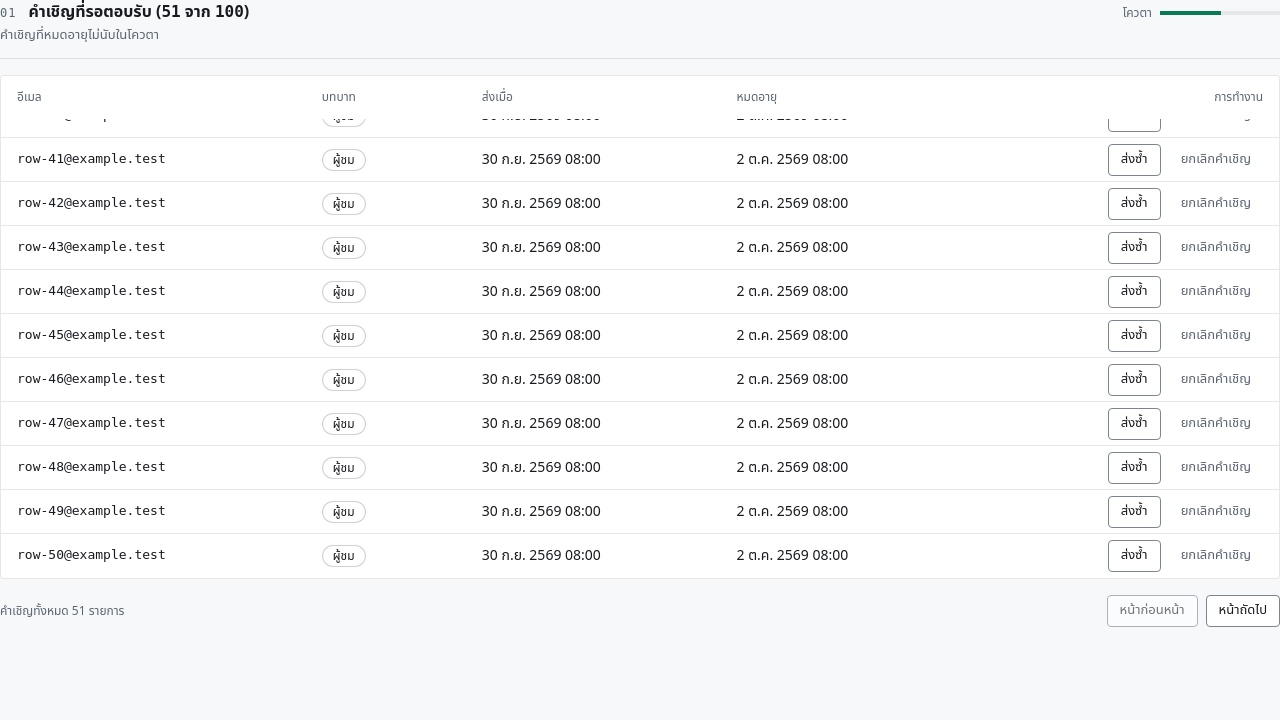
Test: invitation cancel › focuses the row pulled up from the next page when the last row of page one is canceled
(page scrolled)
Click the button "ยกเลิกคำเชิญ" in the row of "row-50@example.test": (1216, 556) [1169,540,1263,572]
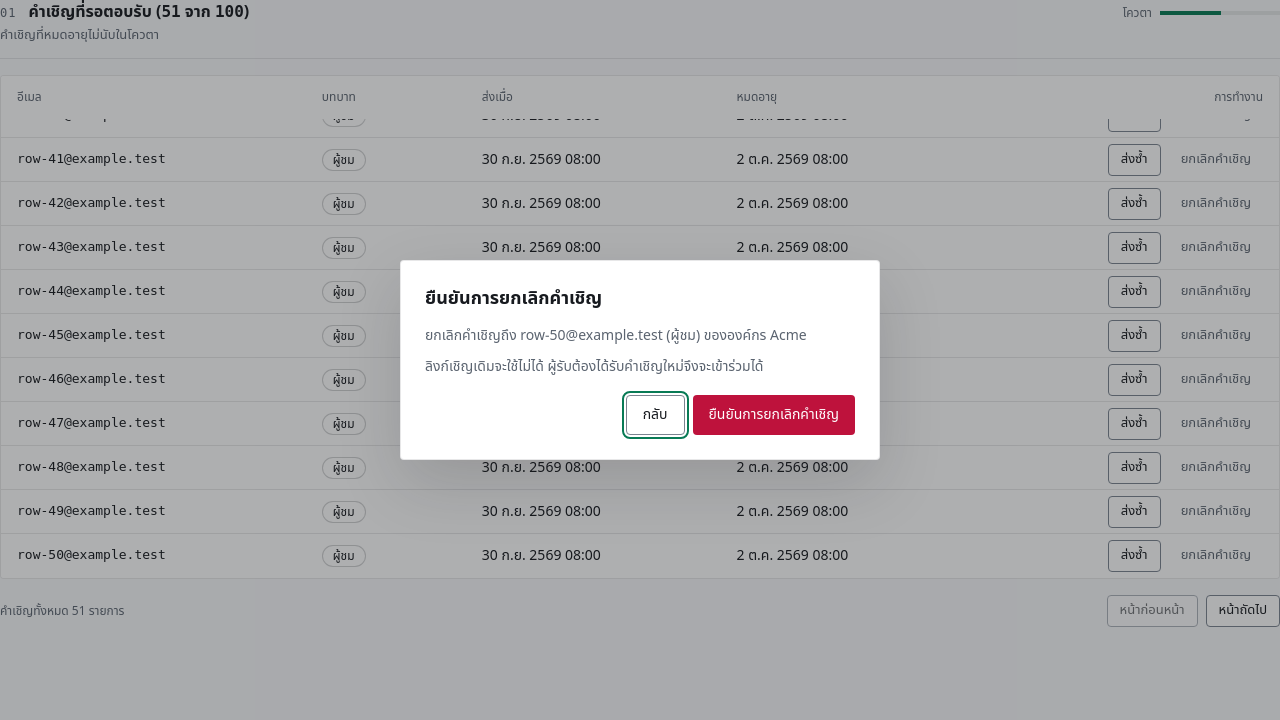
Click the button with test id "invitation-cancel-confirm": (774, 415) [692,395,855,435]
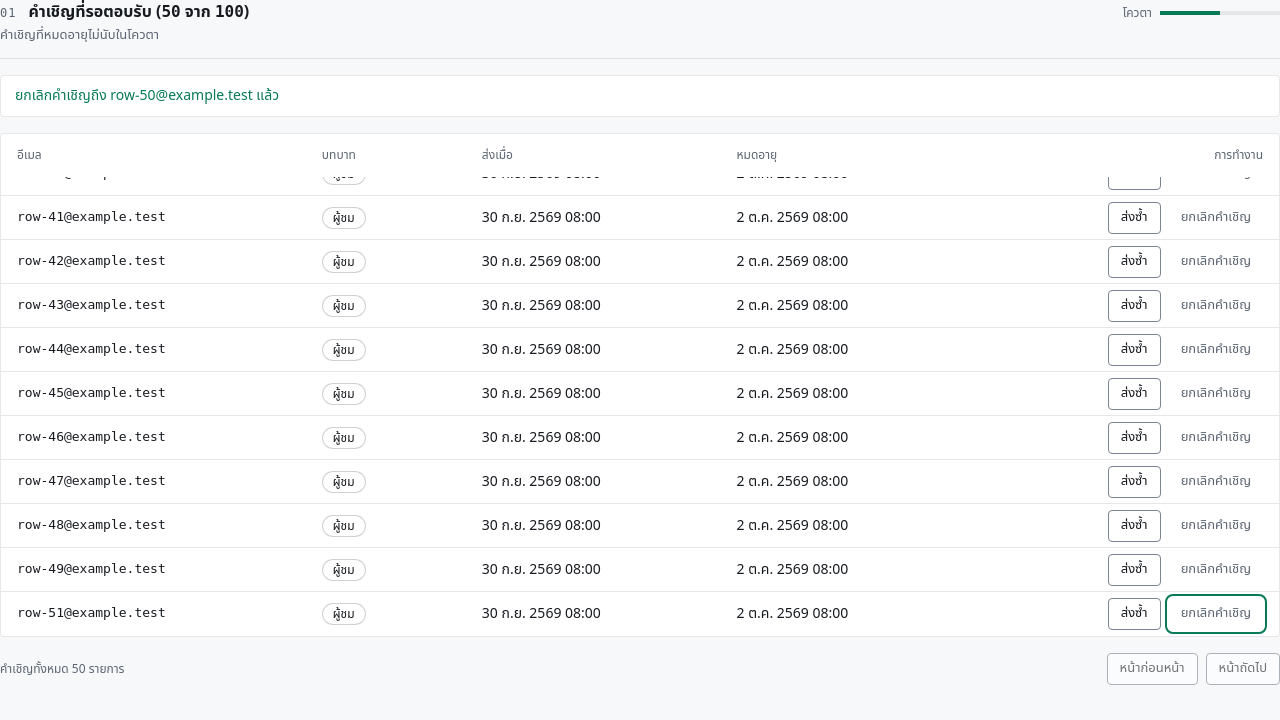
Now the text "ยกเลิกคำเชิญถึง row-50@example.test แล้ว" is shown, box [0,74,1279,116]
